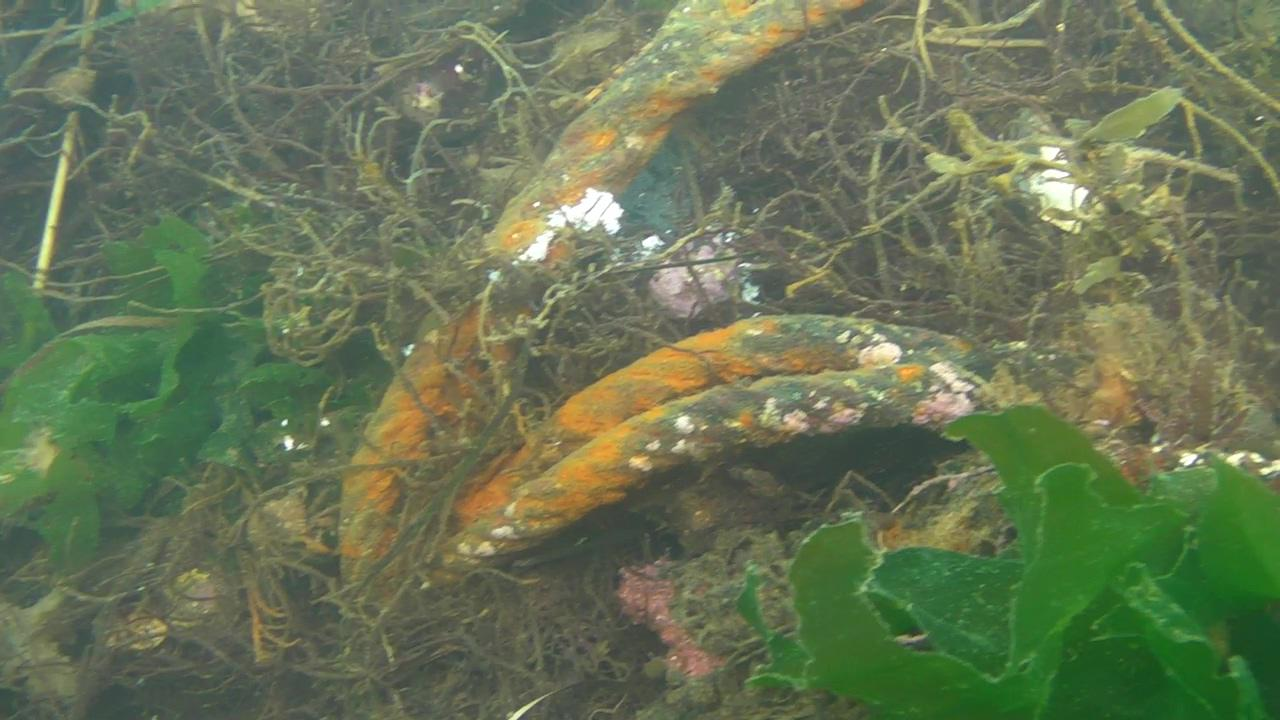bundle of ropes: (335, 0, 1140, 586)
